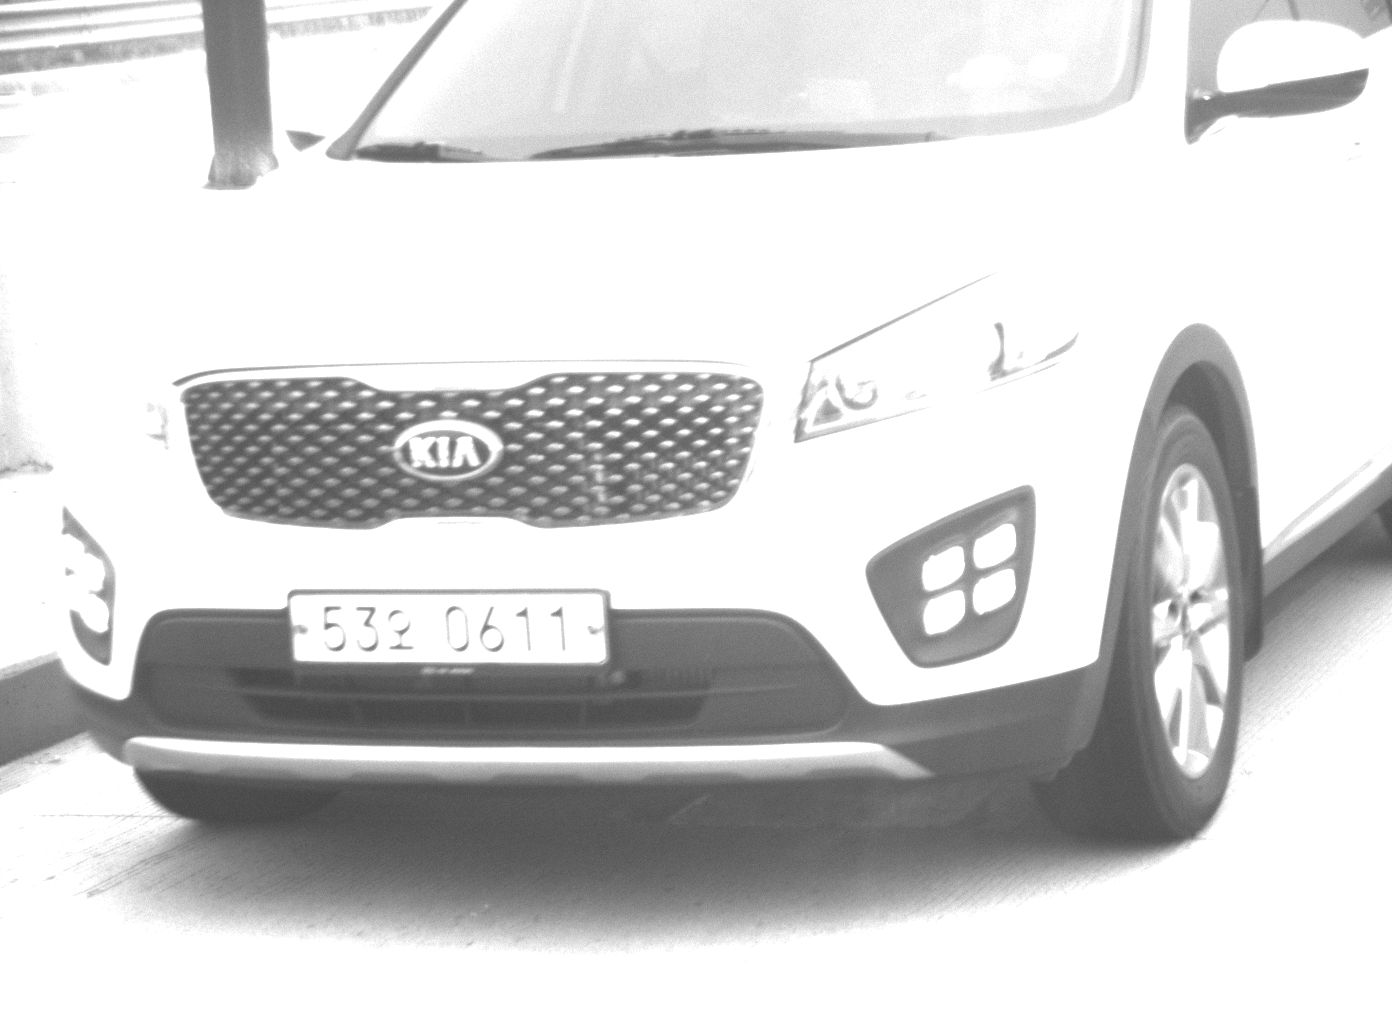car: (44, 1, 1388, 851)
plate: (283, 586, 615, 669)
